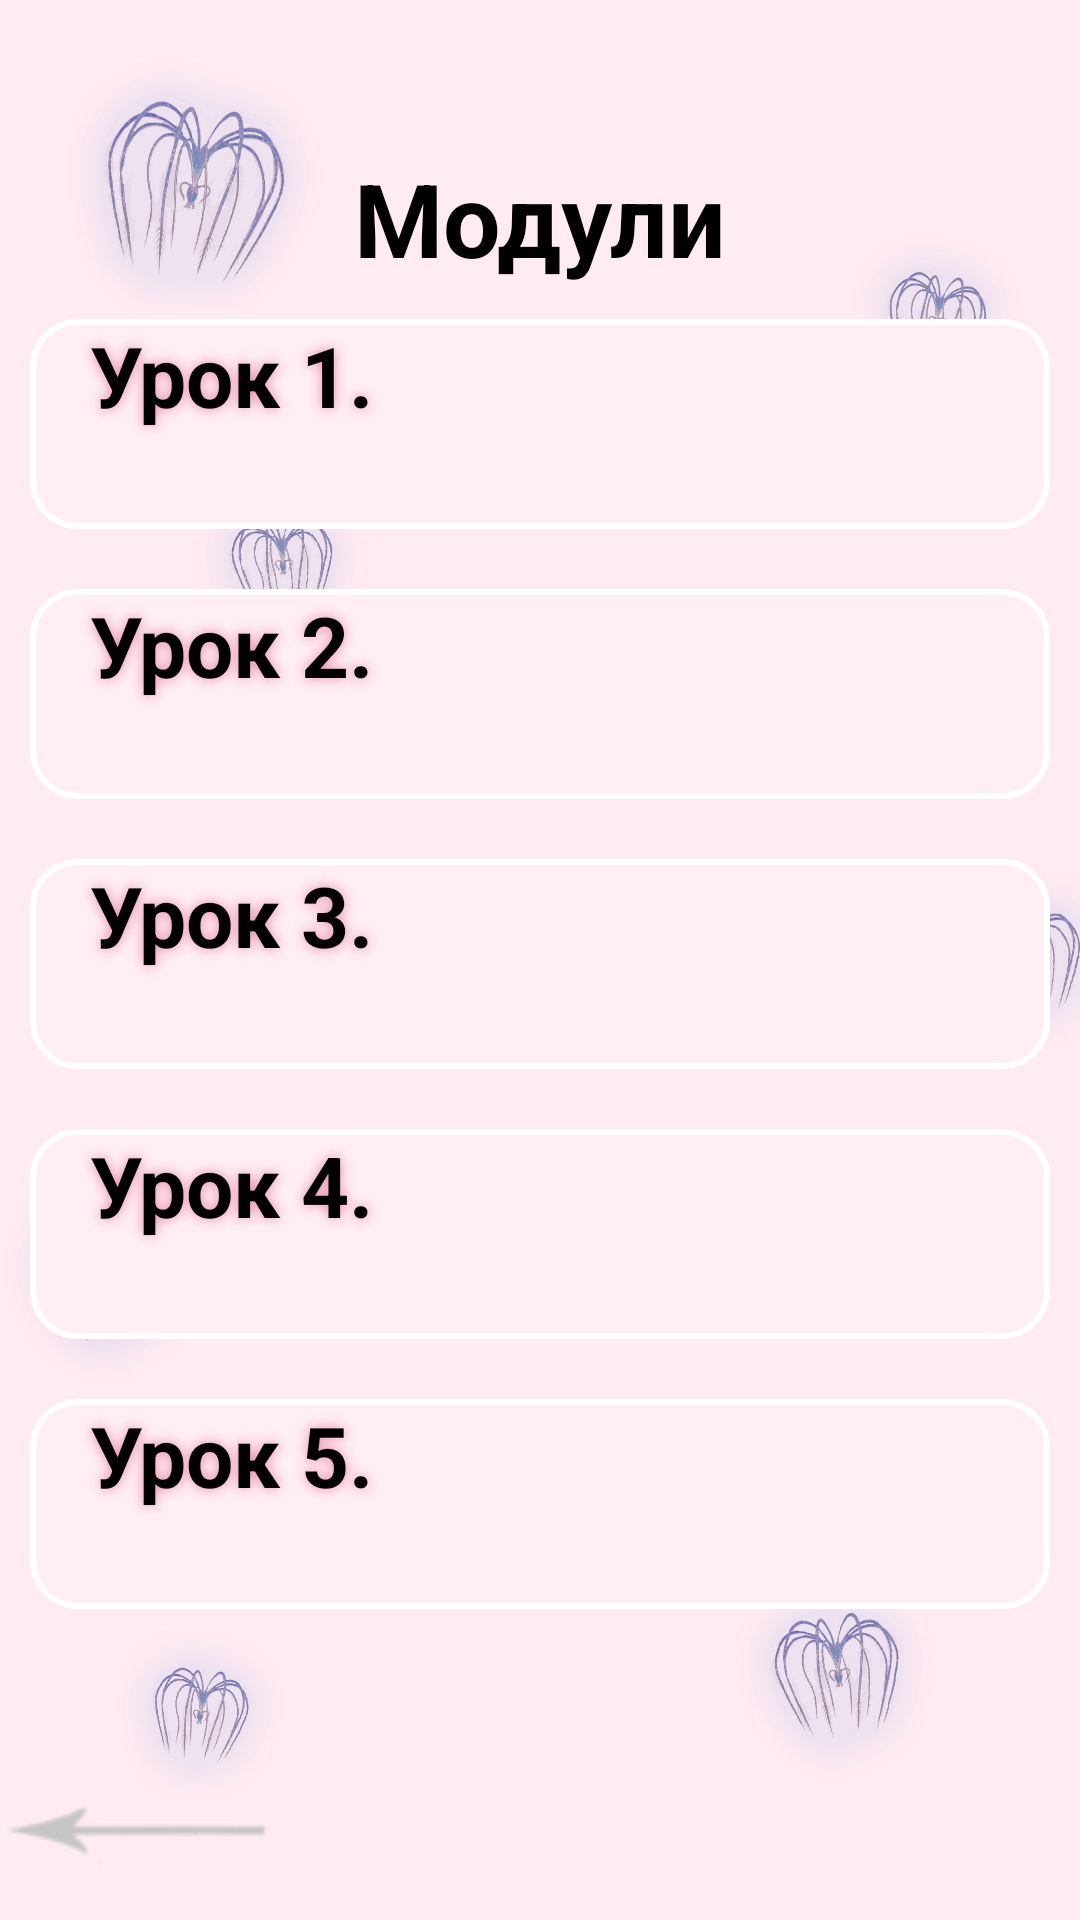

Where icons sit on this 1080x1920 app screen, as Rect(x1, y1, x2, y2):
back: Rect(13, 1808, 265, 1853)
